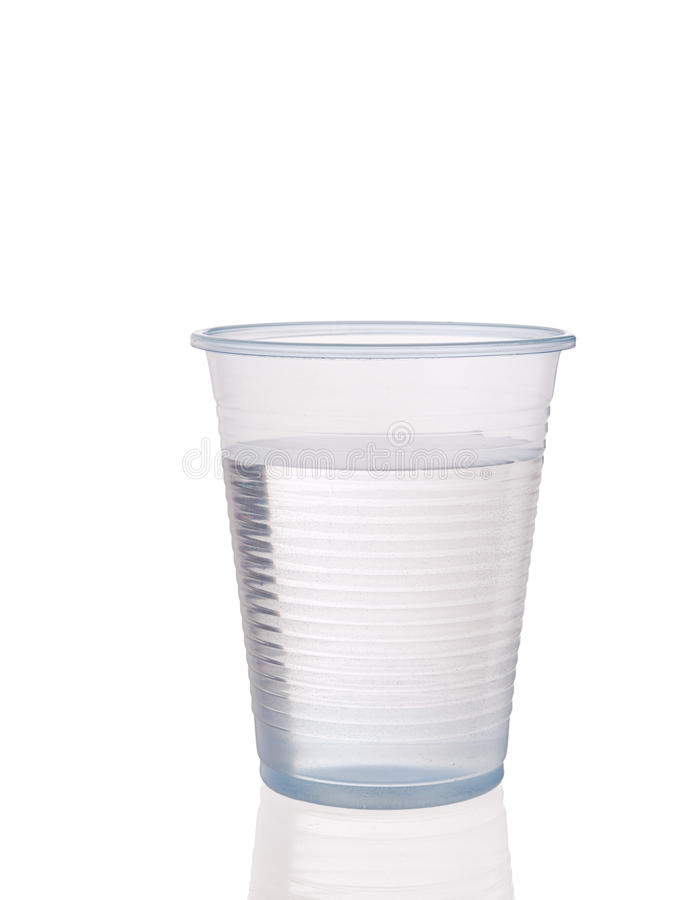plastic_glass: (145, 142, 606, 857)
